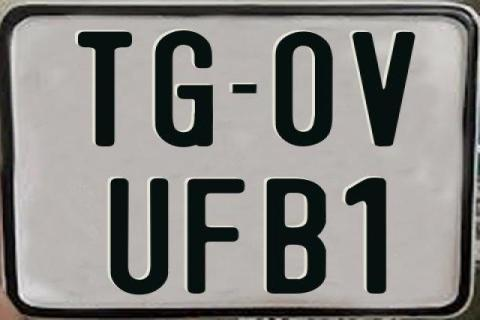0: (272, 30, 330, 146), (344, 176, 388, 296)
B: (266, 177, 330, 293)
F: (186, 177, 250, 295)
G: (152, 30, 213, 152)
T: (77, 29, 131, 147)
U: (110, 176, 172, 297)
V: (349, 31, 416, 147)
